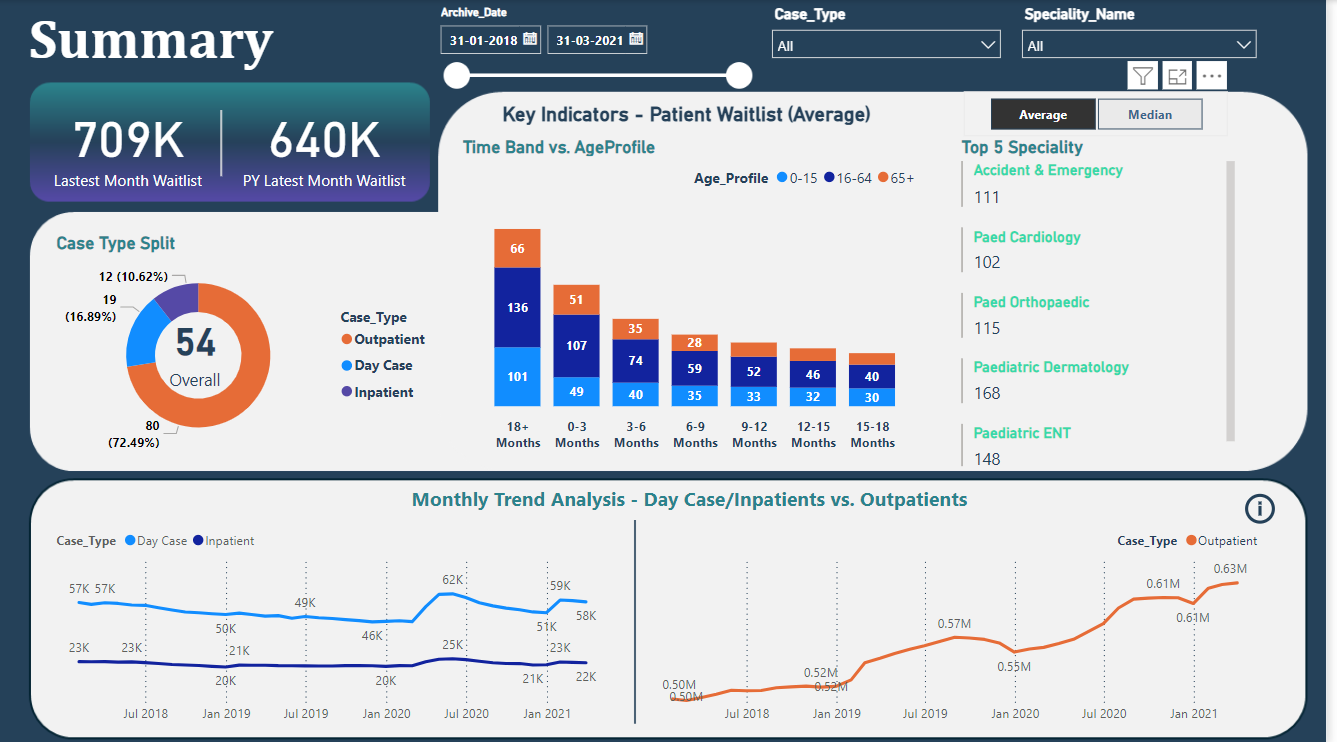

Layout of this report page (visuals, bound fields, positions):
{"tool":"powerbi","page":{"name":"Summary","canvas":[1280,720],"ordinal":0},"visuals":[{"type":"card","fields":{"Values":["All Data.Lastest Month Waitlist"]},"box":[33.8,86.9,179.8,103.8],"z":0},{"type":"card","fields":{"Values":["All Data.Previous Month Waitlist"]},"box":[213.5,86.9,199.1,103.8],"z":1000},{"type":"slicer","fields":{"Values":["Table.Calc Method"]},"box":[930.2,88.1,254.6,43.4],"z":2000},{"type":"donutChart","title":"Case Type Split","fields":{"Category":["All Data.Case_Type"],"Y":["All Data.Avg/Med Waitlist"]},"box":[49.5,224.4,375.2,218.4],"z":3000},{"type":"columnChart","title":"Time Band vs. AgeProfile","fields":{"Y":["All Data.Avg/Med Waitlist"],"Category":["All Data.Time_Bands"],"Series":["All Data.Age_Profile"]},"box":[441.9,131.7,451.5,311.5],"z":4000},{"type":"multiRowCard","title":"Top 5 Speciality","fields":{"Values":["All Data.Speciality_Name","All Data.Avg/Med Waitlist"]},"box":[922.9,131.5,273.9,323.3],"z":5000},{"type":"actionButton","box":[0,0,100,40],"z":6000},{"type":"card","fields":{"Values":["All Data.NoData2"]},"box":[686.1,551.6,473.4,104.3],"z":7000},{"type":"card","fields":{"Values":["All Data.NoData"]},"box":[75.5,536.5,473.4,104.3],"z":8000},{"type":"lineChart","fields":{"Category":["All Data.Archive_Date"],"Y":["Sum(All Data.Total)"],"Series":["All Data.Case_Type"]},"box":[49.5,501.9,545.3,205.1],"z":9000},{"type":"lineChart","fields":{"Category":["All Data.Archive_Date"],"Y":["Sum(All Data.Total)"],"Series":["All Data.Case_Type"]},"box":[622.5,501.9,600.8,205.1],"z":10000},{"type":"slicer","fields":{"Values":["All Data.Archive_Date"]},"box":[412.6,0,322.1,115.8],"z":11000},{"type":"slicer","fields":{"Values":["All Data.Case_Type"]},"box":[734.1,0,241.5,70],"z":12000},{"type":"slicer","fields":{"Values":["All Data.Speciality_Name"]},"box":[975.6,0,247,68.6],"z":13000},{"type":"textbox","box":[22.9,1.2,272.7,78.4],"z":14000},{"type":"card","fields":{"Values":["All Data.Avg/Med Waitlist"]},"box":[138.7,293.2,98.9,89.3],"z":15000},{"type":"shape","box":[174.9,106.2,77.2,63.9],"z":16000},{"type":"shape","box":[574.3,501.9,77.2,196.6],"z":17000},{"type":"textbox","box":[392.1,463.3,624.9,38.6],"z":18000},{"type":"card","fields":{"Values":["All Data.Dynamnic Title"]},"box":[341.7,94.7,642.2,31.6],"z":19000},{"type":"actionButton","box":[1196.8,471.7,43.4,38.6],"z":20000}]}

Visuals, with their boxes in screenshot pixels (x1, y1, x2, y2), scaled from the page's 1280x720 canvas onto the 1337x742 screenshot:
card - All Data.Lastest Month Waitlist: bbox=[35, 90, 223, 197]
card - All Data.Previous Month Waitlist: bbox=[223, 90, 431, 197]
slicer - Table.Calc Method: bbox=[972, 91, 1238, 136]
"Case Type Split" donutChart: bbox=[52, 231, 444, 456]
"Time Band vs. AgeProfile" columnChart: bbox=[462, 136, 933, 457]
"Top 5 Speciality" multiRowCard: bbox=[964, 136, 1250, 469]
actionButton: bbox=[0, 0, 104, 41]
card - All Data.NoData2: bbox=[717, 568, 1211, 676]
card - All Data.NoData: bbox=[79, 553, 573, 660]
lineChart - All Data.Archive_Date x Sum(All Data.Total): bbox=[52, 517, 621, 729]
lineChart - All Data.Archive_Date x Sum(All Data.Total): bbox=[650, 517, 1278, 729]
slicer - All Data.Archive_Date: bbox=[431, 0, 767, 119]
slicer - All Data.Case_Type: bbox=[767, 0, 1019, 72]
slicer - All Data.Speciality_Name: bbox=[1019, 0, 1277, 71]
textbox: bbox=[24, 1, 309, 82]
card - All Data.Avg/Med Waitlist: bbox=[145, 302, 248, 394]
shape: bbox=[183, 109, 263, 175]
shape: bbox=[600, 517, 681, 720]
textbox: bbox=[410, 477, 1062, 517]
card - All Data.Dynamnic Title: bbox=[357, 98, 1028, 130]
actionButton: bbox=[1250, 486, 1295, 526]
